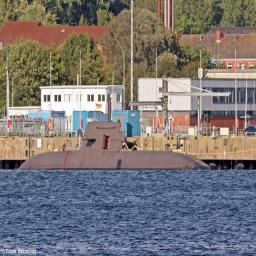submarine: (16, 83, 229, 176)
